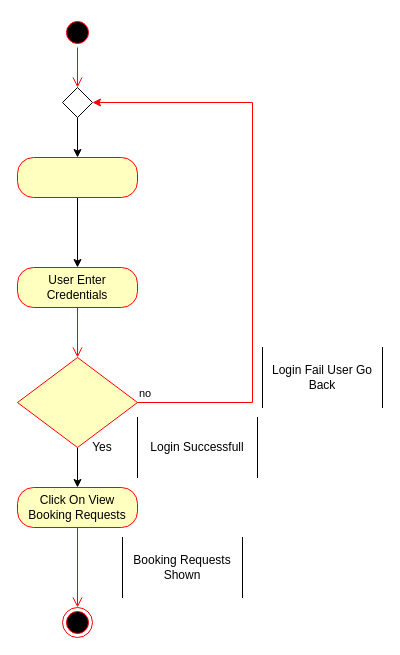
This 400x655 diagram has some shape labels left out. The box of each missing label's shape, as (x1, y1, x2, y2) in pixels:
Click On Login: (16, 156, 138, 198)
User Credentials Will Be Checked in DB: (16, 356, 138, 448)
